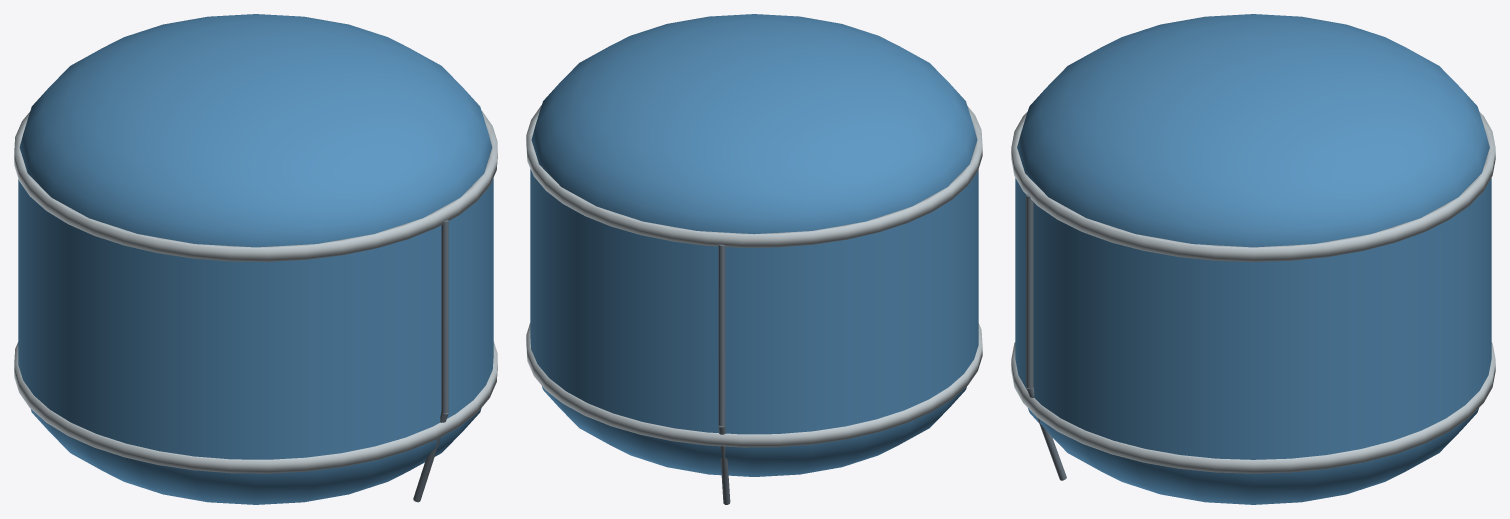
File: atlas_v_centaur_lox_vessel.glb
3 views of the same model, side by side, from view 1: azimuth 30°, elevation 25°; view 2: azimuth 150°, elevation 25°; view 3: azimuth 270°, elevation 25° (orthographic). The views are drawn at different scales.
Parts seen in each view (by area): view 1: atlas_v_centaur_lox_vessel.mesh_Cutaway_liquid_oxygen, atlas_v_centaur_lox_vessel.mesh_Satin_aluminum, atlas_v_centaur_lox_vessel.mesh_Machined_steel; view 2: atlas_v_centaur_lox_vessel.mesh_Cutaway_liquid_oxygen, atlas_v_centaur_lox_vessel.mesh_Satin_aluminum, atlas_v_centaur_lox_vessel.mesh_Machined_steel; view 3: atlas_v_centaur_lox_vessel.mesh_Cutaway_liquid_oxygen, atlas_v_centaur_lox_vessel.mesh_Satin_aluminum, atlas_v_centaur_lox_vessel.mesh_Machined_steel.
Part boxes in pixels (<box>): atlas_v_centaur_lox_vessel.mesh_Cutaway_liquid_oxygen: <box>18,14,493,504</box>; atlas_v_centaur_lox_vessel.mesh_Satin_aluminum: <box>14,110,497,473</box>; atlas_v_centaur_lox_vessel.mesh_Machined_steel: <box>413,219,448,502</box>; atlas_v_centaur_lox_vessel.mesh_Cutaway_liquid_oxygen: <box>530,14,978,476</box>; atlas_v_centaur_lox_vessel.mesh_Satin_aluminum: <box>526,105,982,447</box>; atlas_v_centaur_lox_vessel.mesh_Machined_steel: <box>718,244,730,504</box>; atlas_v_centaur_lox_vessel.mesh_Cutaway_liquid_oxygen: <box>1015,14,1491,504</box>; atlas_v_centaur_lox_vessel.mesh_Satin_aluminum: <box>1011,112,1495,473</box>; atlas_v_centaur_lox_vessel.mesh_Machined_steel: <box>1026,194,1066,480</box>.
Size of the model in its own units: 2.89 by 2.68 by 2.89.
